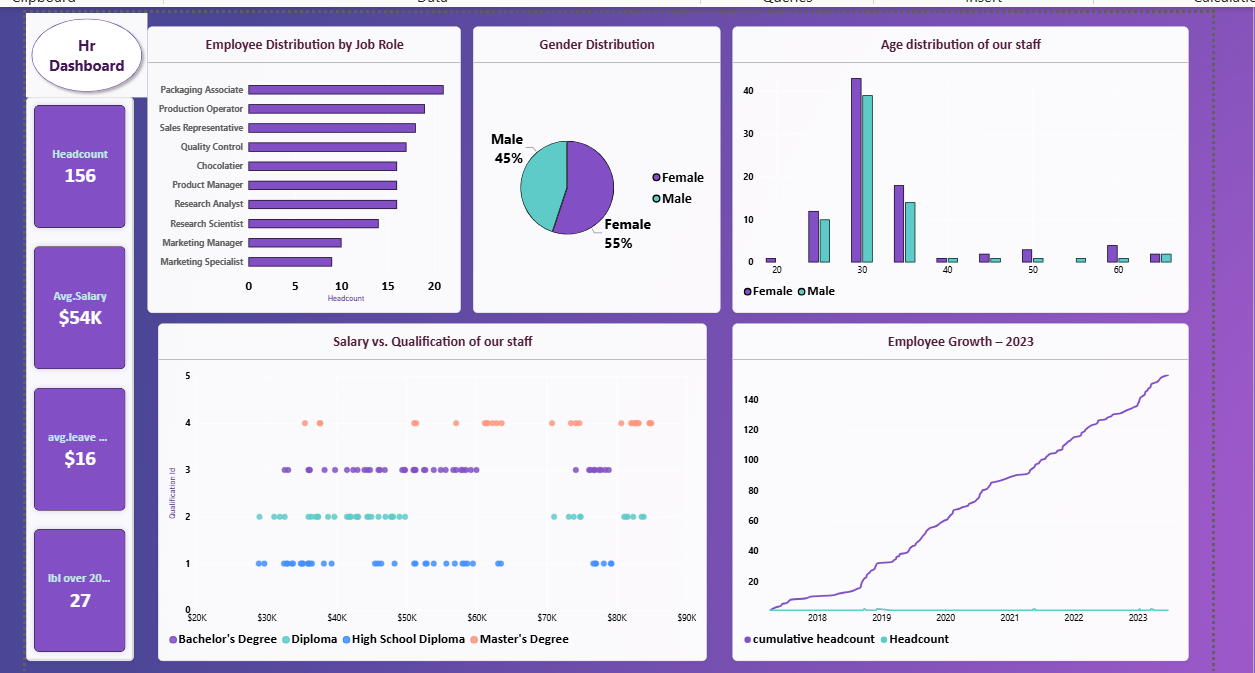

What the dashboard file says about the page in this screenshot:
{"tool":"powerbi","page":{"name":"Dashboard","canvas":[1920,1080],"ordinal":0},"visuals":[{"type":"cardVisual","fields":{"Data":["Staff.Headcount","Staff.Avg.Salary","Staff.avg.leave balance","Staff.lbl over 20 days"]},"box":[0,136,174.9,913.2],"z":0},{"type":"clusteredBarChart","title":"What Do They Do?","fields":{"Category":["Staff.Job title"],"Y":["Staff.Measure"]},"box":[196.7,21.9,497.9,463.9],"z":1000},{"type":"pieChart","title":"55% of our staff are female","fields":{"Category":["Staff.Gender"],"Y":["Staff.Headcount"]},"box":[718.9,31.6,400.8,454.2],"z":2000},{"type":"clusteredColumnChart","title":"Age distribution of our staff","fields":{"Category":["Staff.Age (bins)"],"Series":["Staff.Gender"],"Y":["Staff.Headcount"]},"box":[1144,21.9,738.4,463.9],"z":3000},{"type":"scatterChart","title":"Salary vs. Qualification of our staff","fields":{"Series":["Qual.Qualification"],"X":["Staff.Salary"],"Y":["Qual.Custom"]},"box":[213.7,502.8,889,546.5],"z":4000},{"type":"lineChart","title":"We have added 20 people in 2023","fields":{"Category":["Staff.Date of join"],"Y":["Staff.cumulative headcount","Staff.Headcount"]},"box":[1144,502.8,738.4,546.5],"z":5000},{"type":"shape","box":[0,0,196.7,136.7],"z":5001}]}

Visuals, with their boxes in screenshot pixels (x1, y1, x2, y2):
cardVisual - Staff.Headcount x Staff.Avg.Salary: (23,97,130,658)
"What Do They Do?" clusteredBarChart: (144,27,450,312)
"55% of our staff are female" pieChart: (465,32,711,312)
"Age distribution of our staff" clusteredColumnChart: (726,27,1180,312)
"Salary vs. Qualification of our staff" scatterChart: (154,322,701,658)
"We have added 20 people in 2023" lineChart: (726,322,1180,658)
shape: (23,13,144,97)
